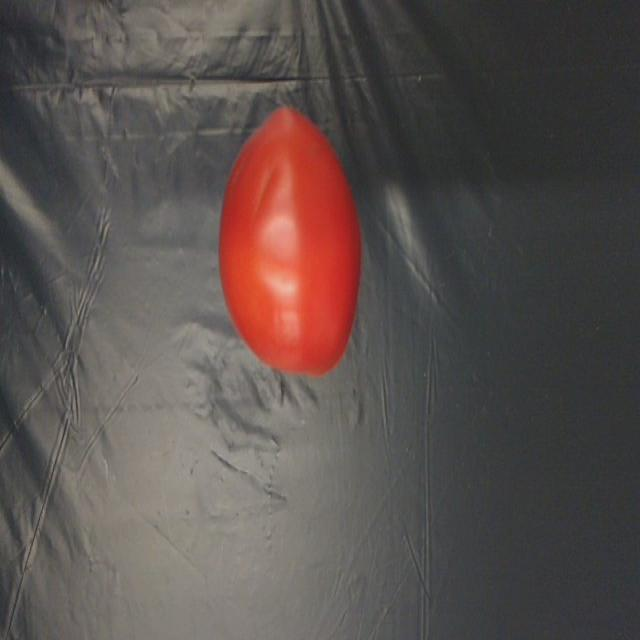kirmizi: (210, 93, 374, 387)
